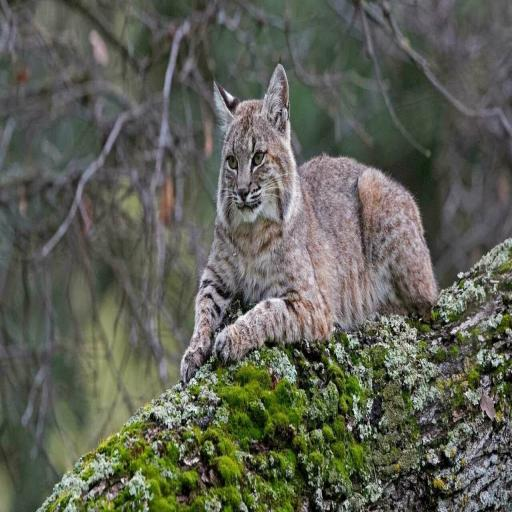lynx: (181, 63, 438, 382)
